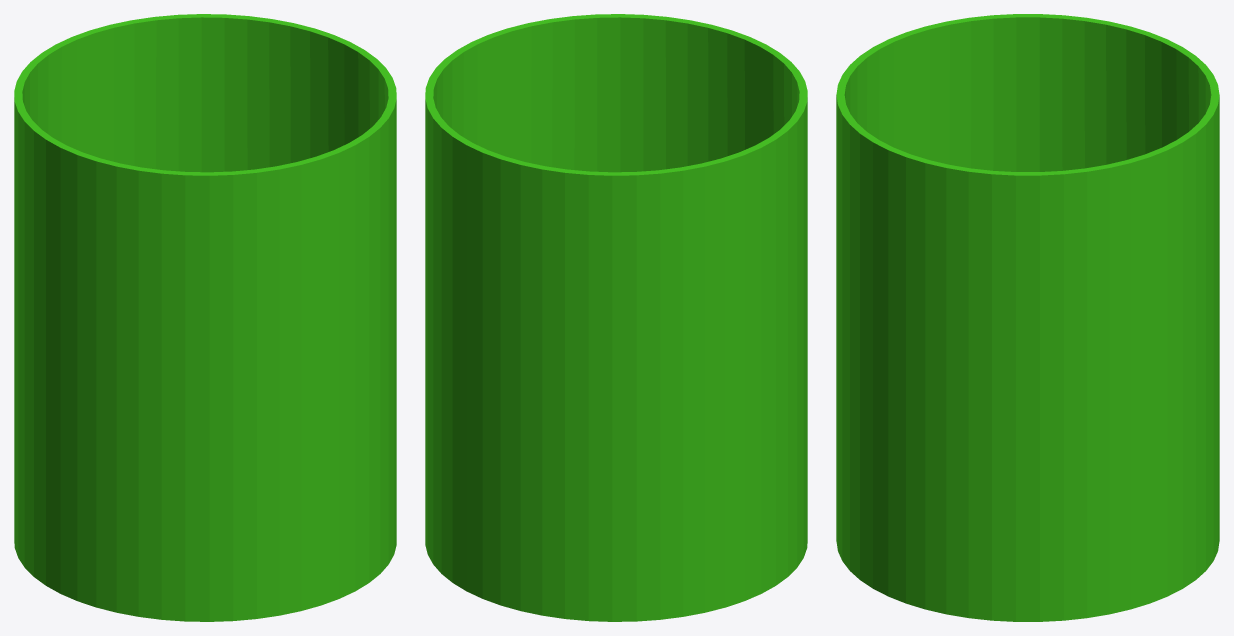
Rendered from green_bin.dae.
3 views of the same model, side by side, from view 1: azimuth 30°, elevation 25°; view 2: azimuth 150°, elevation 25°; view 3: azimuth 270°, elevation 25° (orthographic).
Visible parts, largest first — view 1: Cylinder; view 2: Cylinder; view 3: Cylinder.
Part boxes in pixels (<box>): Cylinder: <box>14,14,396,621</box>; Cylinder: <box>425,14,807,621</box>; Cylinder: <box>836,14,1219,621</box>.
Bounding box in the file's own units: 0.1397 × 0.14 × 0.18.
